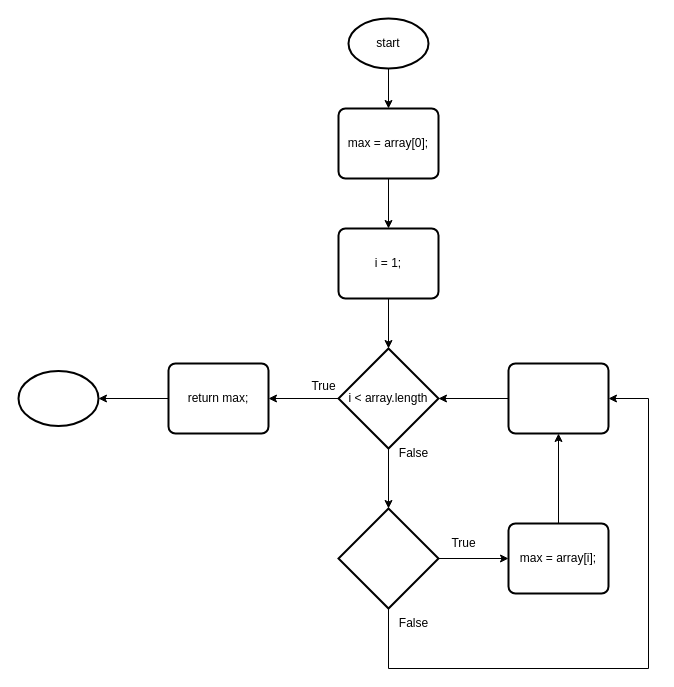
The diagram is 674 pixels wide and 687 high, and some of its shapes have lost their labels. The shapes that lost their labels are listed below. From the top down, each one's centre as x and y in pixels, then its label:
At point (58, 398): "end".
At point (558, 398): "i++;".
At point (388, 558): "array[i] > max".
